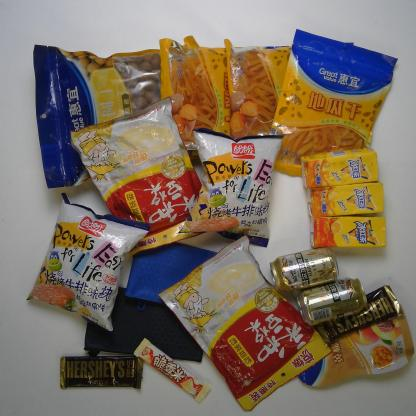Alcohol: (295, 276, 370, 328), (268, 248, 343, 295)
Chocolate: (132, 338, 213, 405), (314, 288, 404, 340), (59, 353, 144, 391)
Dried Food: (29, 41, 166, 187)
Dried Fruit: (274, 22, 400, 176), (222, 34, 356, 142), (158, 32, 288, 142), (287, 310, 415, 390)
Drink: (306, 180, 385, 219), (300, 147, 378, 186), (309, 215, 387, 250)
Instant Drink: (157, 235, 333, 413), (69, 94, 213, 258)
Puffed Food: (25, 190, 150, 334), (176, 125, 285, 248)
Stationery: (81, 294, 205, 368), (124, 240, 219, 301)
